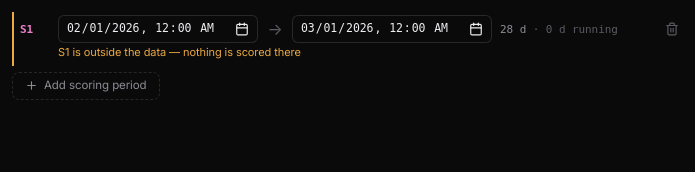
it: Scoring period rows against the loaded data › exactly as it was SAVED and outside the data: an amber warning only — "S1 is outside the data — nothing is scored there"
Check: the text with test id "test-data-note-1" reads "S1 is outside the data — nothing is scored there", box [58,45,301,59]
changed: invalid
Replace the text in the field named "Scoring period 1 start" with "2026-02-02T00:00": (144, 29) [59,16,229,42]
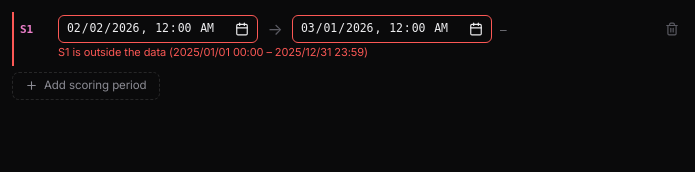
Check: the message with test id "test-invalid-1" reads "S1 is outside the data (2025/01/01 00:00 – 2025/12/31 23:59)", box [58,45,368,59]
